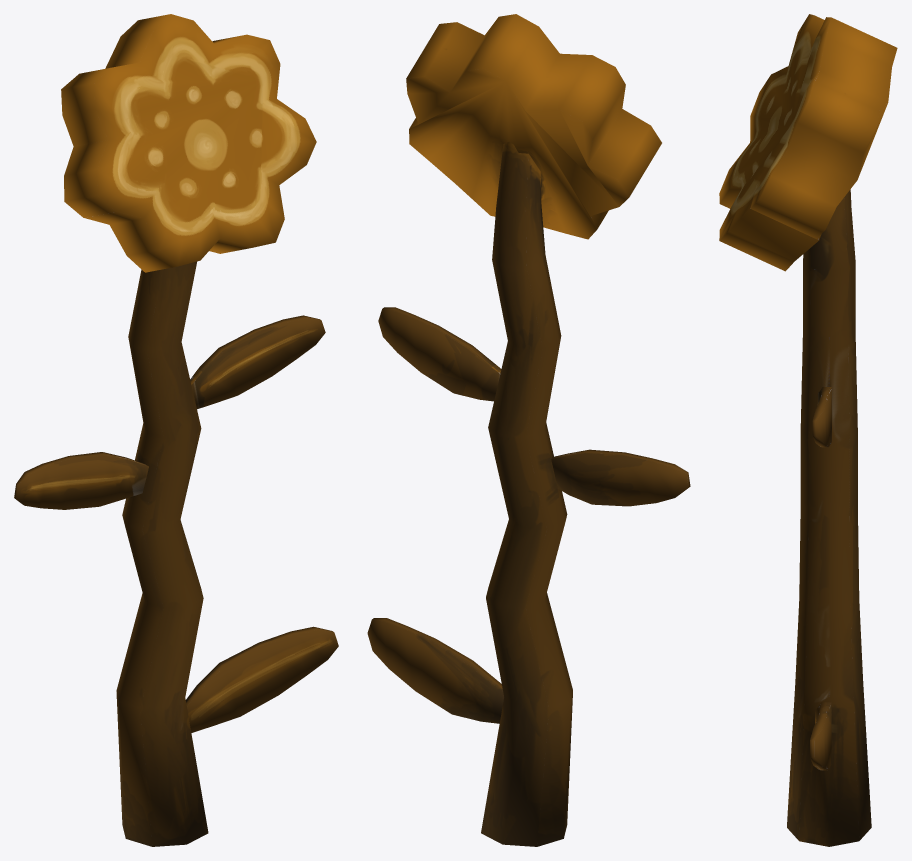
Rendered from Flower (Biscuit).fbx.
3 renders of one model, left to right at view 1: azimuth 30°, elevation 25°; view 2: azimuth 150°, elevation 25°; view 3: azimuth 270°, elevation 25°, orthographic.
Visible parts, largest first — view 1: Cube.002; view 2: Cube.002; view 3: Cube.002.
Boxes of the visible parts, bbox=[...] form: Cube.002: bbox=[14, 14, 338, 846]; Cube.002: bbox=[367, 14, 690, 846]; Cube.002: bbox=[719, 14, 897, 846].
Bounding box in the file's own units: 486 × 1173 × 233.
